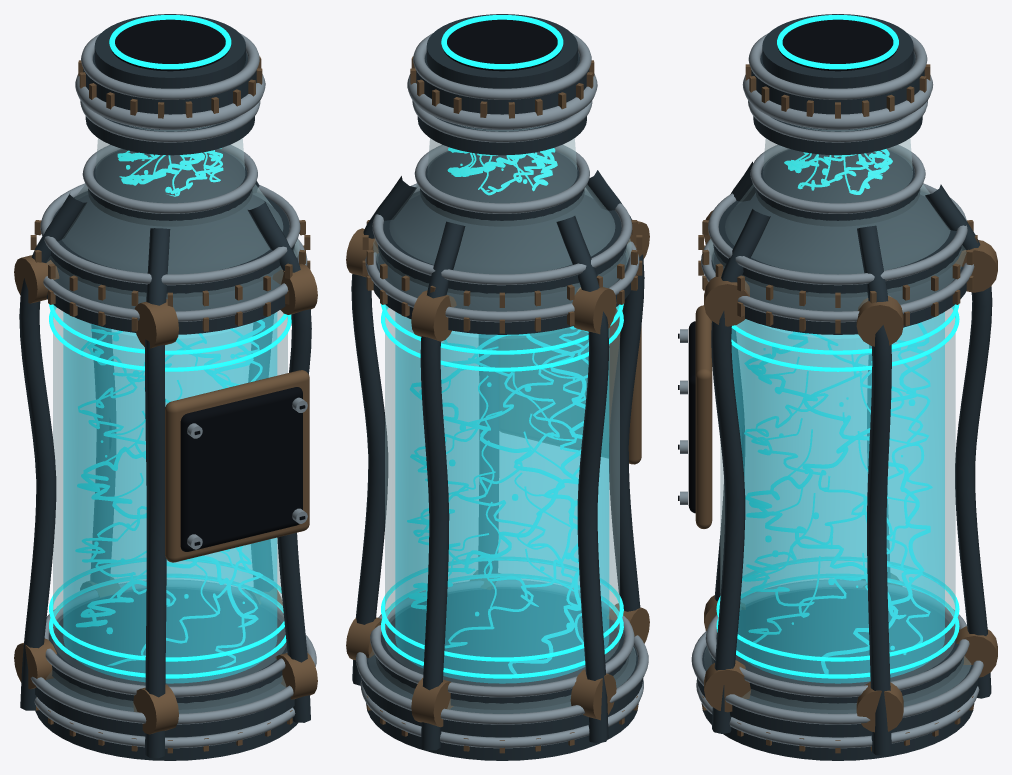
File: arc-chamber.glb
The picture shows the model from 3 angles, left to right: view 1: azimuth 30°, elevation 25°; view 2: azimuth 150°, elevation 25°; view 3: azimuth 270°, elevation 25°; orthographic projection.
Parts seen in each view (by area): view 1: Brushed titanium (×2), Optical glass, Liquid, Machined edges (×2), Aged bronze (×2), Energy (×2), LabelSurface, Ceramic inserts (×2); view 2: Brushed titanium (×2), Optical glass, Liquid, Machined edges (×2), Aged bronze (×2), Energy (×2), Ceramic inserts; view 3: Optical glass, Brushed titanium (×2), Liquid, Machined edges (×2), Energy (×2), Aged bronze (×2), Ceramic inserts (×2).
Boxes of the visible parts, bbox=[...] form: Brushed titanium (×2): bbox=[19, 14, 311, 760]; Optical glass: bbox=[46, 126, 299, 713]; Liquid: bbox=[63, 312, 276, 683]; Machined edges (×2): bbox=[30, 33, 316, 748]; Aged bronze (×2): bbox=[14, 56, 317, 753]; Energy (×2): bbox=[49, 15, 291, 678]; LabelSurface: bbox=[193, 404, 297, 539]; Ceramic inserts (×2): bbox=[111, 19, 305, 551]; Brushed titanium (×2): bbox=[351, 14, 644, 760]; Optical glass: bbox=[368, 126, 636, 713]; Liquid: bbox=[395, 312, 608, 683]; Machined edges (×2): bbox=[356, 33, 648, 748]; Aged bronze (×2): bbox=[346, 56, 649, 753]; Energy (×2): bbox=[381, 15, 623, 678]; Ceramic inserts: bbox=[443, 19, 561, 71]; Optical glass: bbox=[704, 126, 970, 713]; Brushed titanium (×2): bbox=[697, 14, 992, 760]; Liquid: bbox=[731, 312, 944, 683]; Machined edges (×2): bbox=[680, 33, 983, 748]; Energy (×2): bbox=[716, 15, 959, 678]; Aged bronze (×2): bbox=[695, 64, 997, 753]; Ceramic inserts (×2): bbox=[678, 19, 897, 513].
Size of the model in its own units: 1.25 by 3.11 by 1.36.
